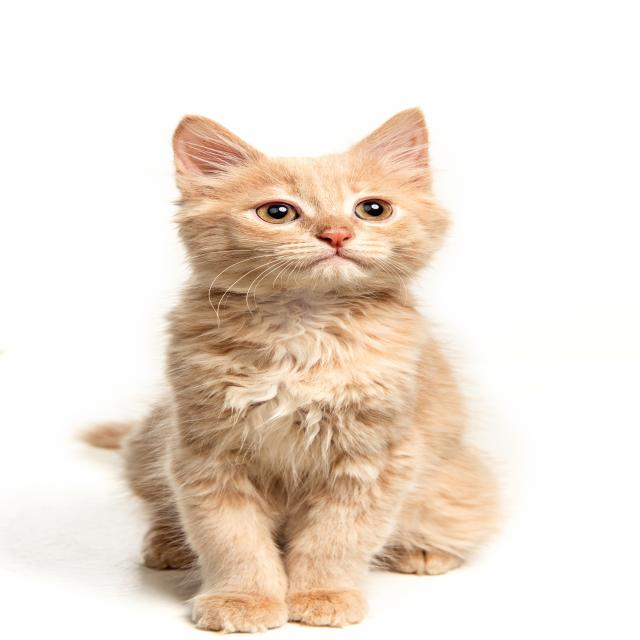cats-dogs: (78, 105, 510, 634)
